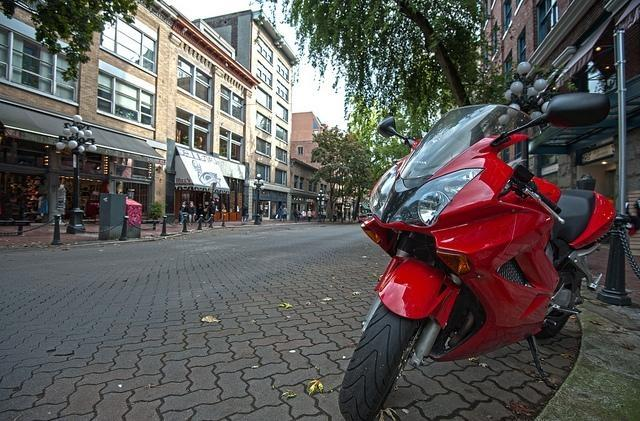motorcycle: (337, 94, 615, 421)
